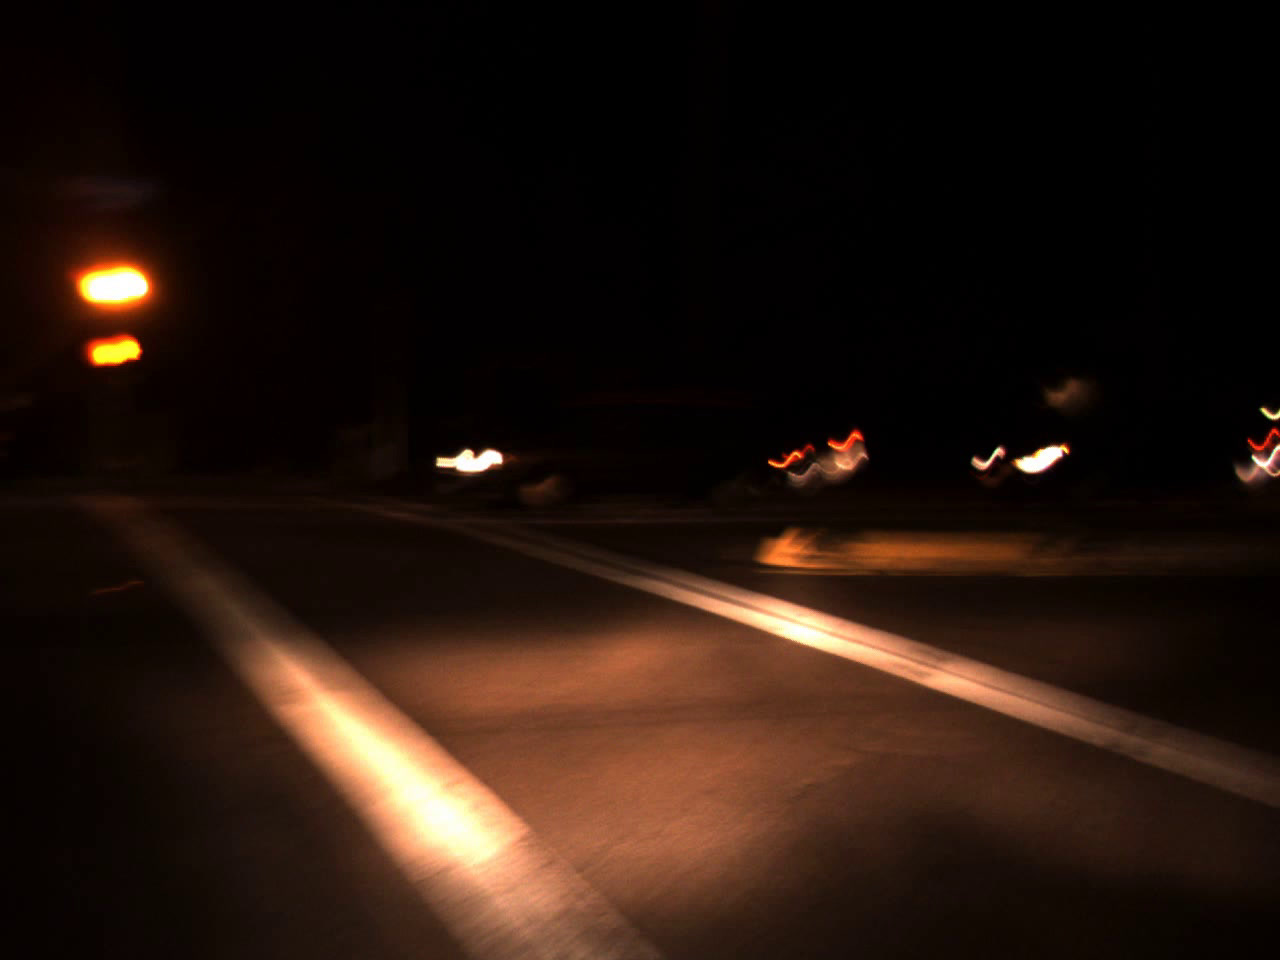warning: (98, 254, 149, 316)
